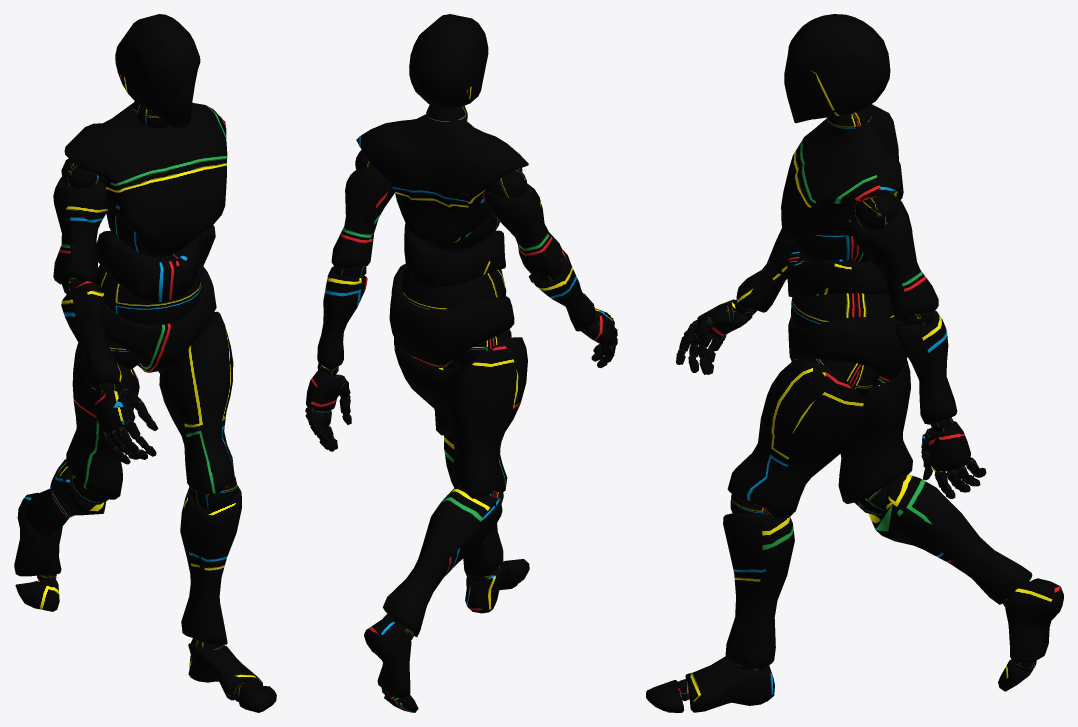
File: y-bot-origin_000023.obj
3 renders of one model, left to right at view 1: azimuth 30°, elevation 25°; view 2: azimuth 150°, elevation 25°; view 3: azimuth 270°, elevation 25°, orthographic. The views are drawn at different scales.
Visible parts, largest first — view 1: Alpha_Surface_Alpha_SurfaceMesh, Alpha_Joints_Alpha_JointsMesh; view 2: Alpha_Surface_Alpha_SurfaceMesh, Alpha_Joints_Alpha_JointsMesh; view 3: Alpha_Surface_Alpha_SurfaceMesh, Alpha_Joints_Alpha_JointsMesh.
Part boxes in pixels (x1,y1,x2,y2): Alpha_Surface_Alpha_SurfaceMesh: (14,14,276,712); Alpha_Joints_Alpha_JointsMesh: (37,101,248,701); Alpha_Surface_Alpha_SurfaceMesh: (305,14,617,712); Alpha_Joints_Alpha_JointsMesh: (305,104,617,696); Alpha_Surface_Alpha_SurfaceMesh: (646,14,1063,712); Alpha_Joints_Alpha_JointsMesh: (677,106,1034,700).
Size of the model in its own units: 0.5874 by 1.77 by 0.9754.
